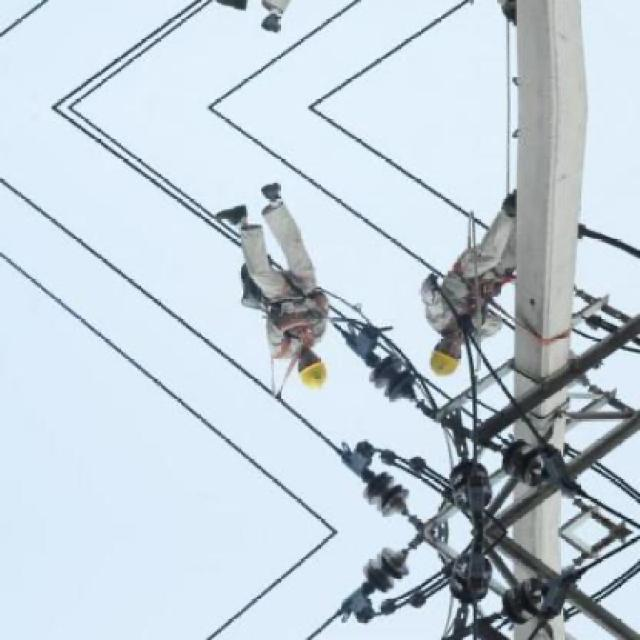con casco: (418, 320, 467, 393), (278, 343, 328, 403)
